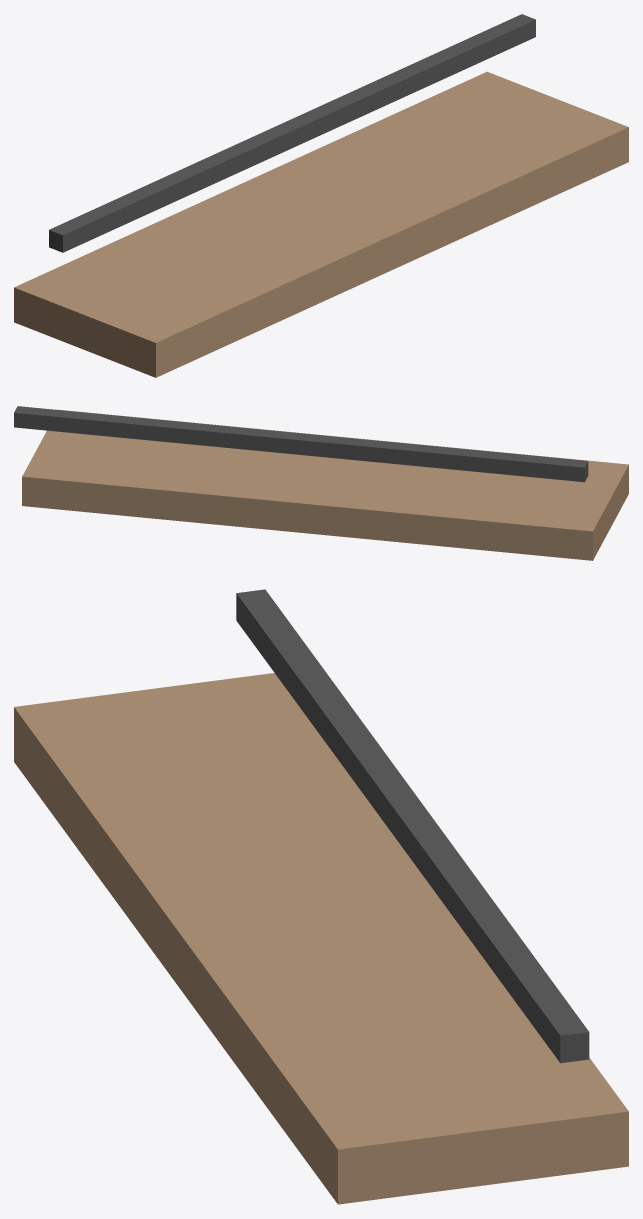
Rendered from gangway.glb.
The picture shows the model from 3 angles, top to bottom: view 1: azimuth 30°, elevation 25°; view 2: azimuth 150°, elevation 25°; view 3: azimuth 270°, elevation 25°; orthographic projection. The views are drawn at different scales.
Parts seen in each view (by area): view 1: gang, rail; view 2: gang, rail; view 3: gang, rail.
Boxes of the visible parts, x1,y1,x2,y2 form: gang: [14, 71, 628, 377]; rail: [49, 14, 535, 252]; gang: [22, 409, 628, 560]; rail: [14, 406, 588, 482]; gang: [14, 673, 628, 1204]; rail: [236, 589, 589, 1063].
Bounding box in the file's own units: 3.73 × 0.5494 × 2.02.
